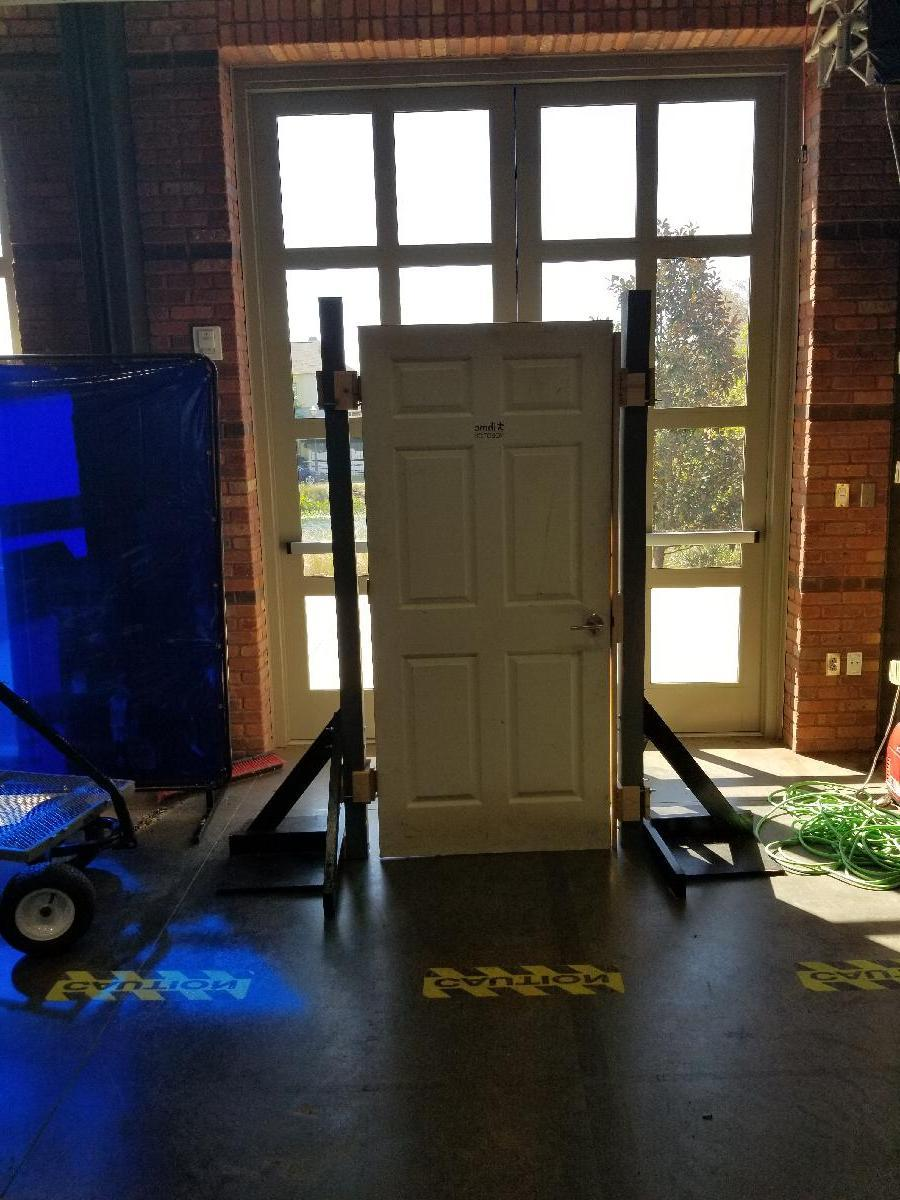door: (372, 320, 614, 860)
handle: (570, 613, 608, 638)
